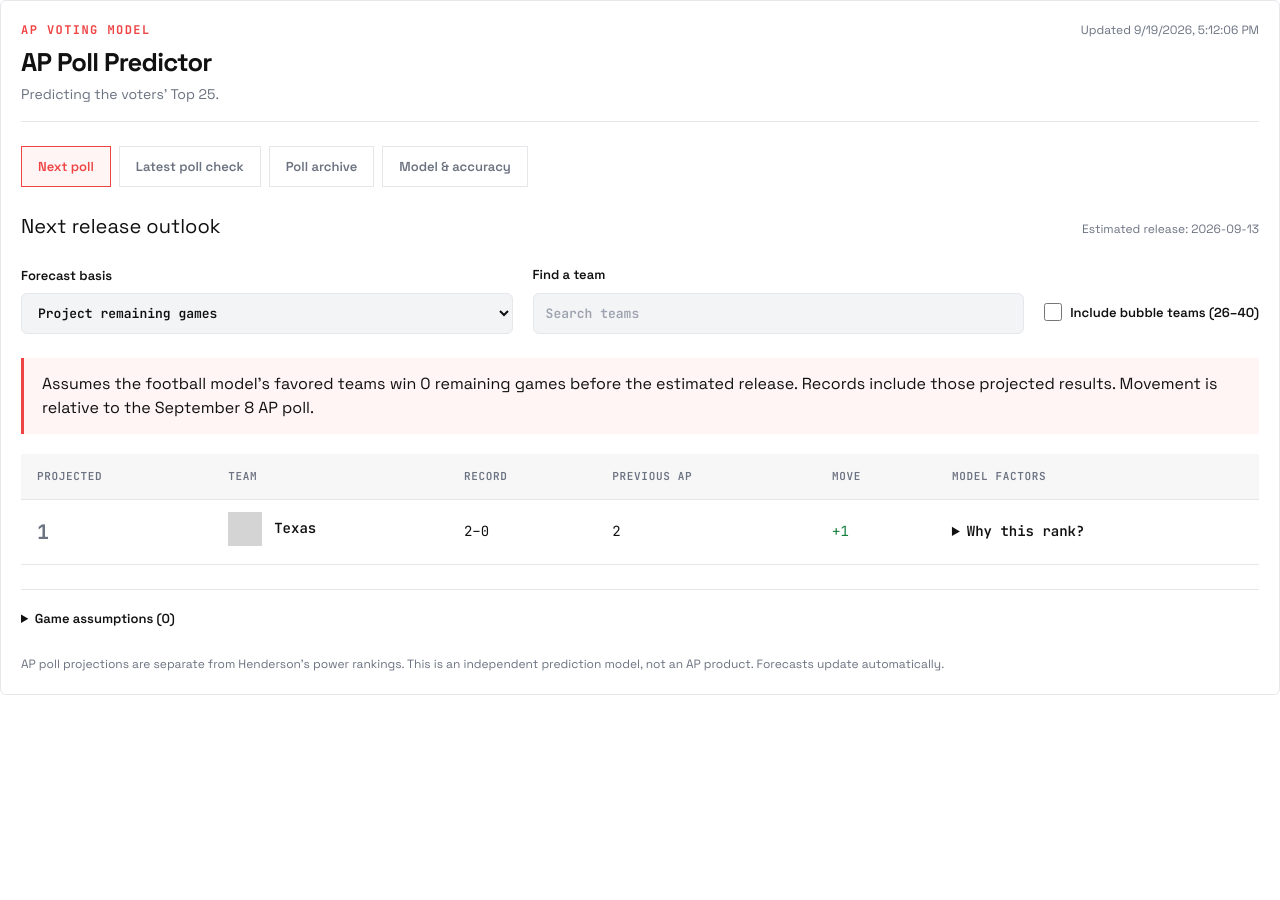
Test: renders projected and completed-only outlook with ESPN logos
This screenshot has width=1280, height=900.
Expected: the heading "Next release outlook" is shown, x1=21 y1=211 x2=220 y2=241
Expected: the text "2–0" is shown, x1=448 y1=499 x2=596 y2=564
Select "Completed results only" in the dropdown labelled "Forecast basis" at x=267, y=314, box x1=21 y1=293 x2=513 y2=334
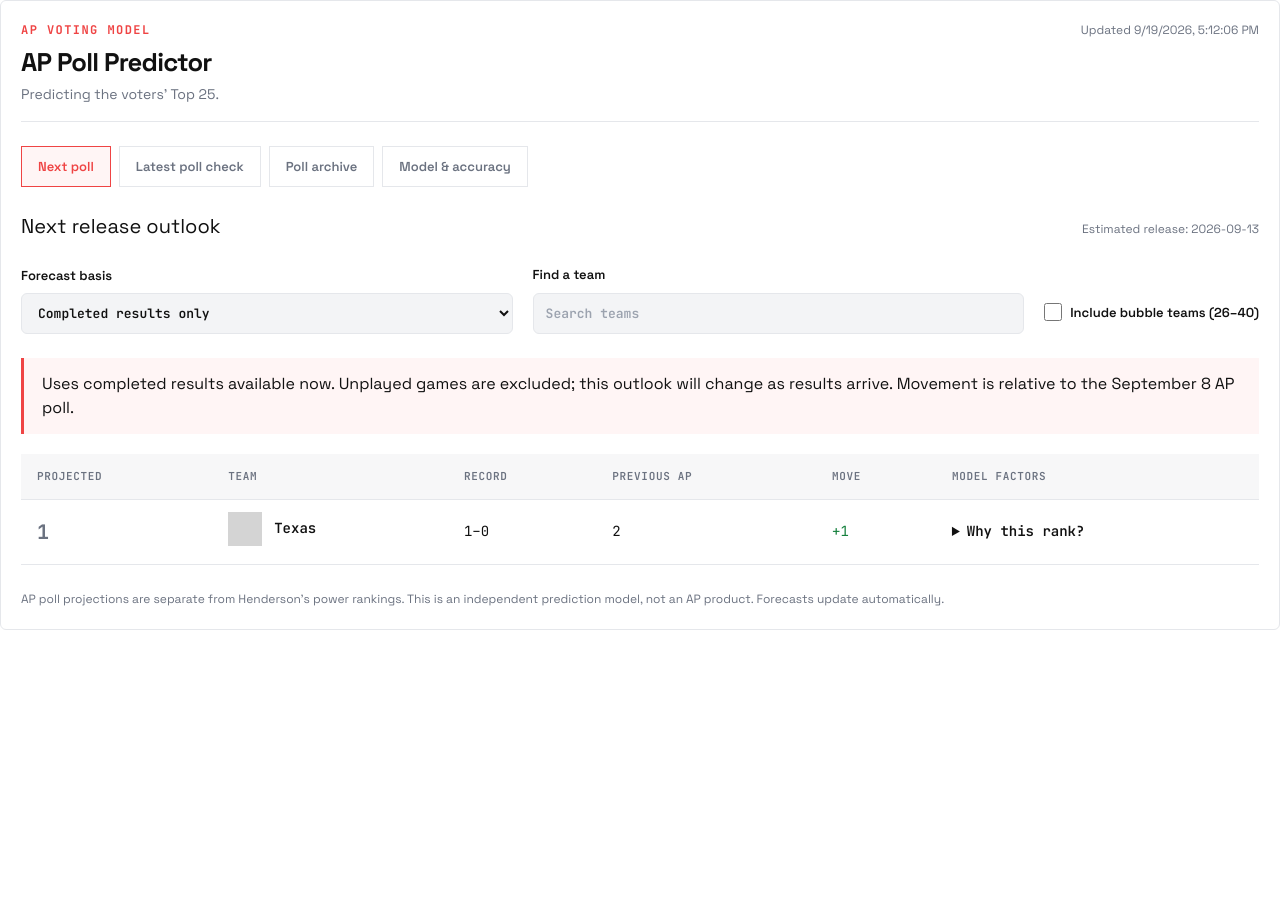
Now the text "1–0" is shown, box x1=448 y1=499 x2=596 y2=564
Type "BYU" into the search field labelled "Find a team" at x=778, y=314, box x1=533 y1=293 x2=1024 y2=334
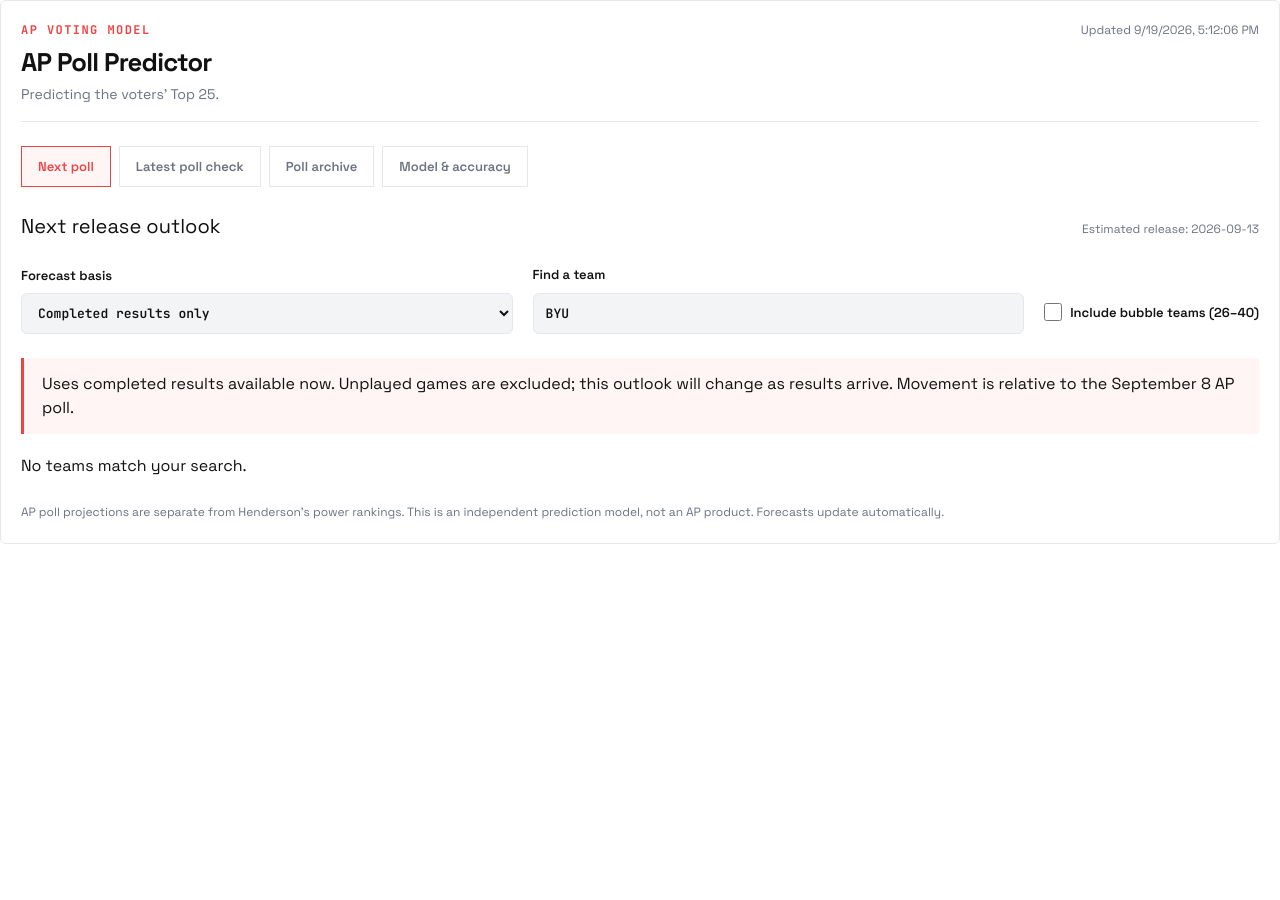
Now the message shows "No teams", box x1=21 y1=455 x2=247 y2=476
